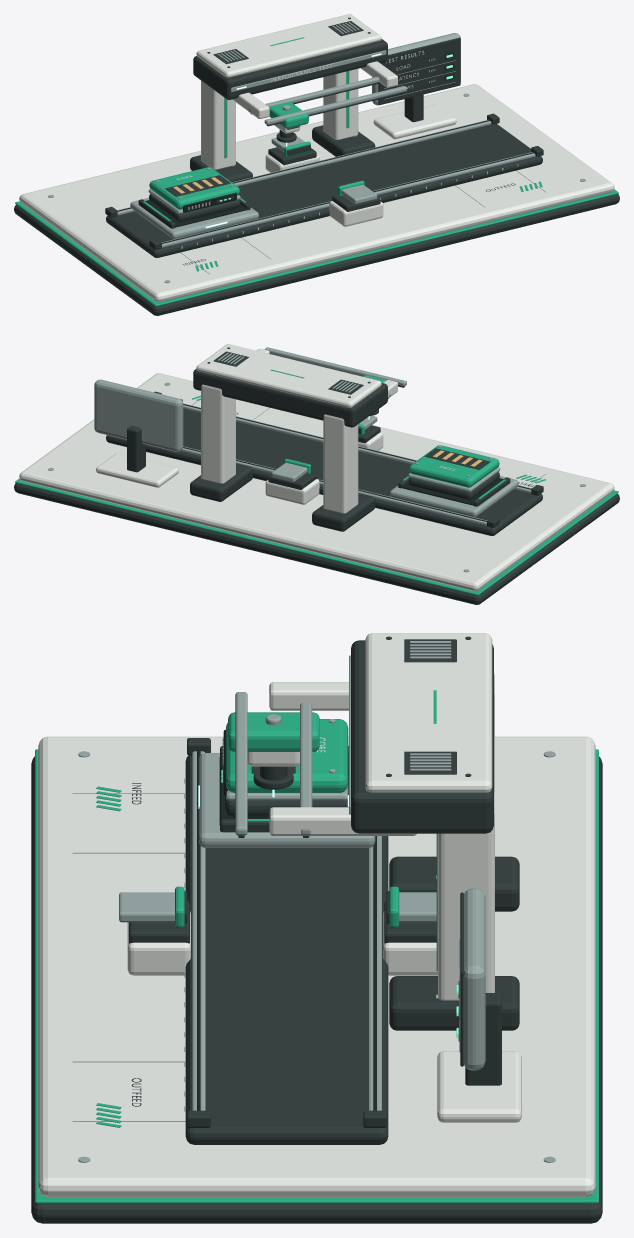
The model's file is runtime-test-cell.glb.
3 renders of one model, top to bottom at view 1: azimuth 30°, elevation 25°; view 2: azimuth 150°, elevation 25°; view 3: azimuth 270°, elevation 25°, orthographic. The views are drawn at different scales.
Parts seen in each view (by area): view 1: Cell / Ceramic enamel.002, Cell / Graphite powder coat.002, Cell / Bead-blasted aluminum.002, Cell / Anodized emerald.002, Product / Anodized emerald.002, Carrier / Bead-blasted aluminum.002, Product / Graphite powder coat.002, Cell / Recess rubber.002, Product / Recess rubber.002, Probe / Anodized emerald.002, ClampFront / Bead-blasted aluminum.002; view 2: Cell / Ceramic enamel.002, Cell / Graphite powder coat.002, Cell / Bead-blasted aluminum.002, Cell / Anodized emerald.002, Product / Anodized emerald.002, Carrier / Bead-blasted aluminum.002, Product / Graphite powder coat.002, Cell / Recess rubber.002, Product / Bead-blasted aluminum.002, Product / Recess rubber.002, ClampRear / Bead-blasted aluminum.002; view 3: Cell / Ceramic enamel.002, Cell / Graphite powder coat.002, Cell / Bead-blasted aluminum.002, Cell / Anodized emerald.002, Carrier / Bead-blasted aluminum.002, Product / Anodized emerald.002, Probe / Anodized emerald.002, Cell / Recess rubber.002, ClampFront / Bead-blasted aluminum.002, Product / Graphite powder coat.002, ClampRear / Bead-blasted aluminum.002, Product / Bead-blasted aluminum.002.
Boxes of the visible parts, <box> form: Cell / Ceramic enamel.002: <box>19,14,614,302</box>; Cell / Graphite powder coat.002: <box>14,17,619,315</box>; Cell / Bead-blasted aluminum.002: <box>48,22,585,283</box>; Cell / Anodized emerald.002: <box>15,37,618,306</box>; Product / Anodized emerald.002: <box>149,167,239,209</box>; Carrier / Bead-blasted aluminum.002: <box>130,198,258,239</box>; Product / Graphite powder coat.002: <box>149,175,240,221</box>; Cell / Recess rubber.002: <box>117,52,533,243</box>; Product / Recess rubber.002: <box>145,192,246,227</box>; Probe / Anodized emerald.002: <box>269,102,308,128</box>; ClampFront / Bead-blasted aluminum.002: <box>341,184,377,204</box>; Cell / Ceramic enamel.002: <box>19,344,614,591</box>; Cell / Graphite powder coat.002: <box>14,347,619,604</box>; Cell / Bead-blasted aluminum.002: <box>48,347,585,572</box>; Cell / Anodized emerald.002: <box>15,369,618,595</box>; Product / Anodized emerald.002: <box>409,445,499,487</box>; Carrier / Bead-blasted aluminum.002: <box>390,476,518,517</box>; Product / Graphite powder coat.002: <box>408,448,499,499</box>; Cell / Recess rubber.002: <box>183,404,531,521</box>; Product / Bead-blasted aluminum.002: <box>408,446,500,492</box>; Product / Recess rubber.002: <box>402,478,503,505</box>; ClampRear / Bead-blasted aluminum.002: <box>271,462,307,482</box>; Cell / Ceramic enamel.002: <box>38,633,595,1196</box>; Cell / Graphite powder coat.002: <box>31,636,602,1223</box>; Cell / Bead-blasted aluminum.002: <box>72,641,555,1162</box>; Cell / Anodized emerald.002: <box>35,690,598,1203</box>; Carrier / Bead-blasted aluminum.002: <box>199,753,375,847</box>; Product / Anodized emerald.002: <box>226,719,348,792</box>; Probe / Anodized emerald.002: <box>228,712,319,751</box>; Cell / Recess rubber.002: <box>197,751,459,1110</box>; ClampFront / Bead-blasted aluminum.002: <box>119,892,174,922</box>; Product / Graphite powder coat.002: <box>222,750,348,817</box>; ClampRear / Bead-blasted aluminum.002: <box>399,892,436,922</box>; Product / Bead-blasted aluminum.002: <box>222,719,348,801</box>.
Size of the model in its own units: 30.6 by 9.2 by 16.2.
